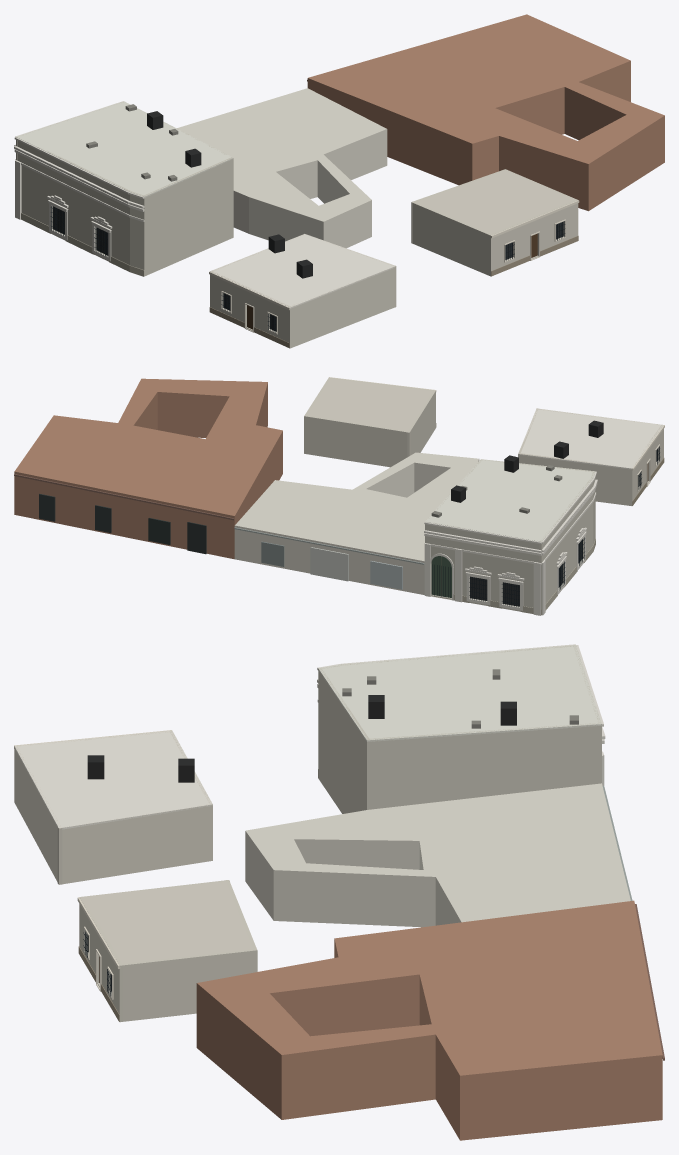
The picture shows the model from 3 angles, top to bottom: view 1: azimuth 30°, elevation 25°; view 2: azimuth 150°, elevation 25°; view 3: azimuth 270°, elevation 25°; orthographic projection. The views are drawn at different scales.
Parts seen in each view (by area): view 1: edificio; view 2: edificio; view 3: edificio.
Part boxes in pixels (x1,y1,x2,y2): edificio: (14, 14, 664, 348); edificio: (14, 377, 664, 615); edificio: (14, 644, 664, 1140).
Bounding box in the file's own units: 58.79 × 9 × 41.78.
